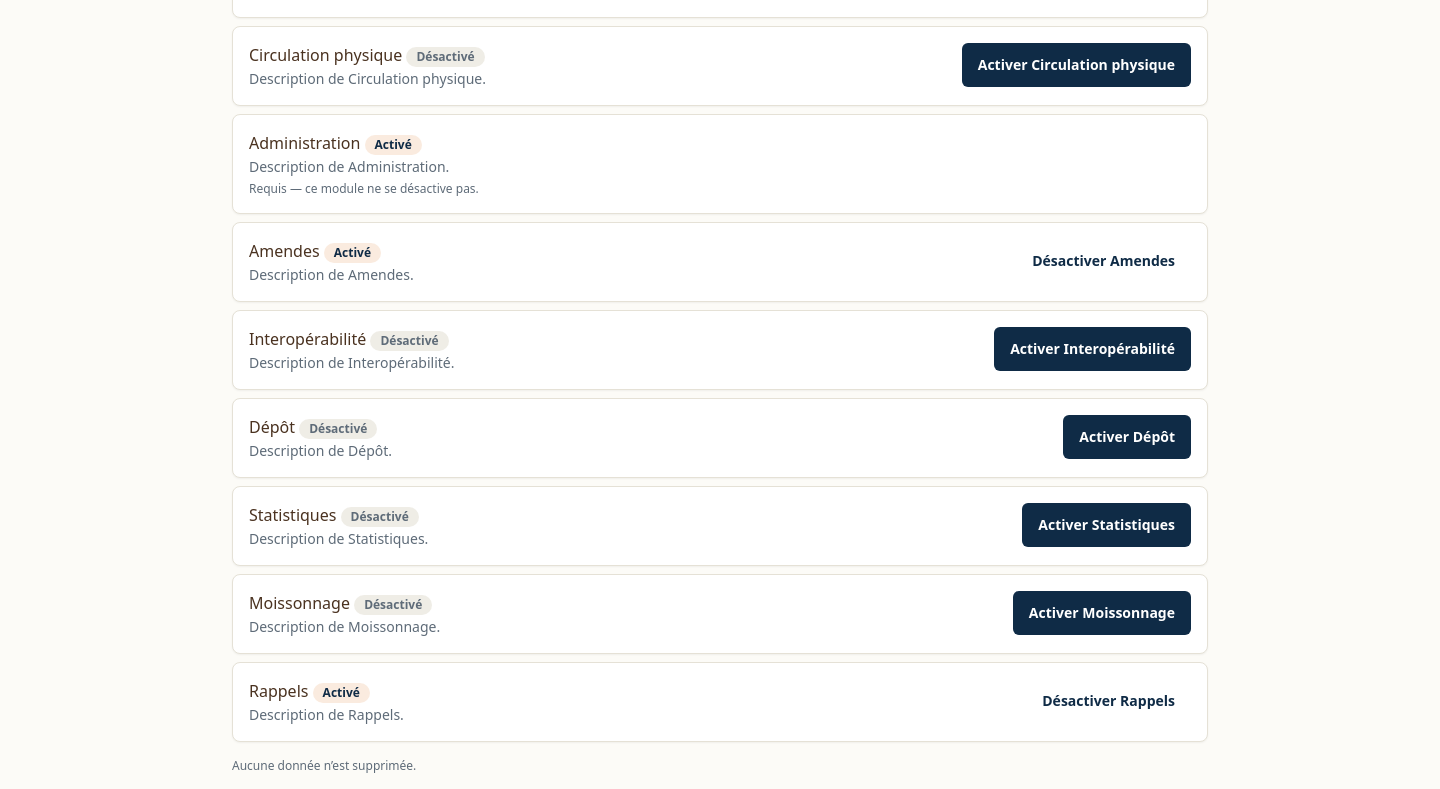
Scenario: Défaut n° 1 de P4-2 — la coque doit suivre la bascule › rallumer Statistiques fait réapparaître son onglet
The width and height of the screenshot is (1440, 789).
(page scrolled)
Click the button "Activer Statistiques" at (1107,525), box [1022,503,1191,547]
(page scrolled)
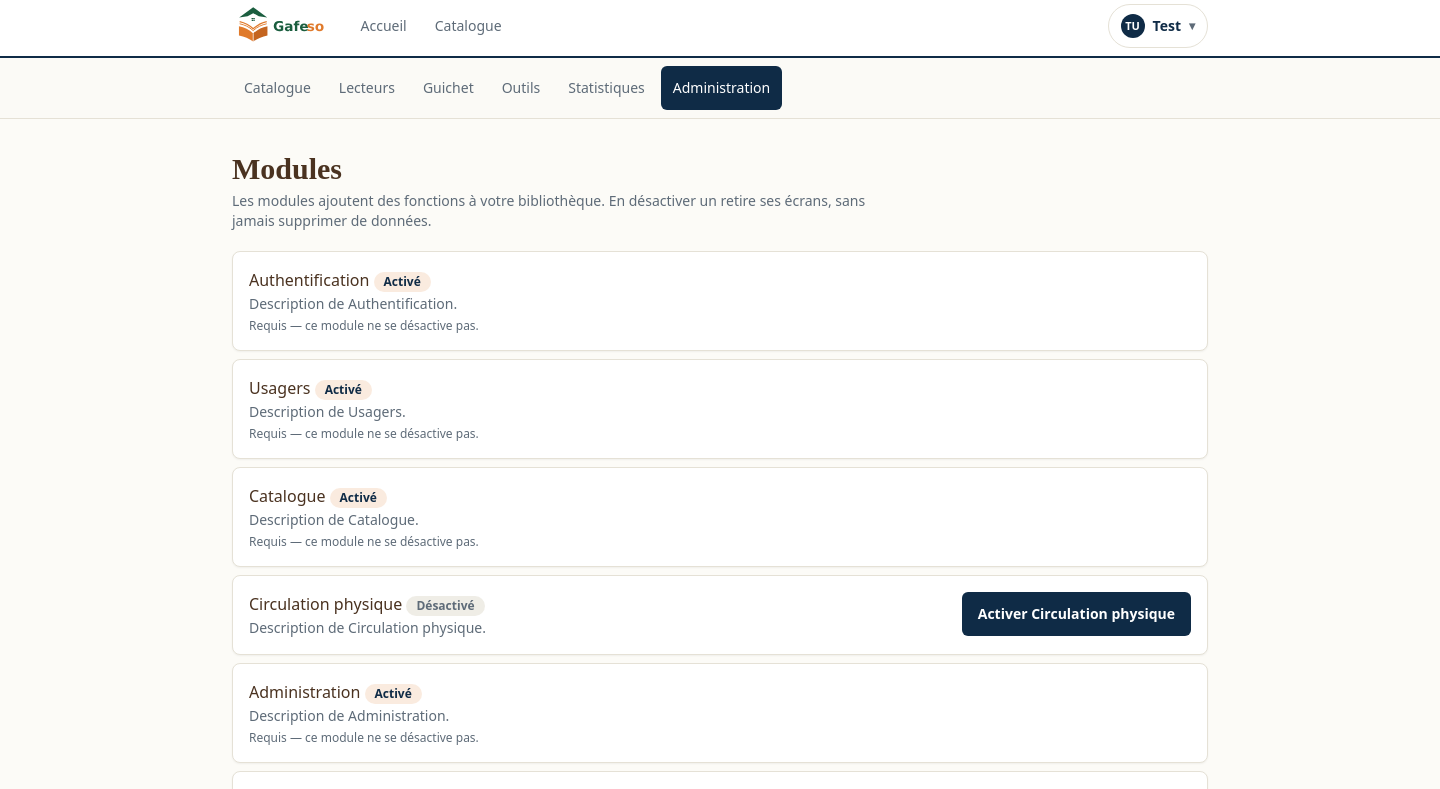
Expected: the link "Statistiques" is shown, [568,78,645,97]
